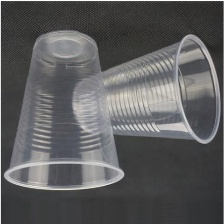glass: (0, 22, 127, 194), (66, 30, 224, 147)
